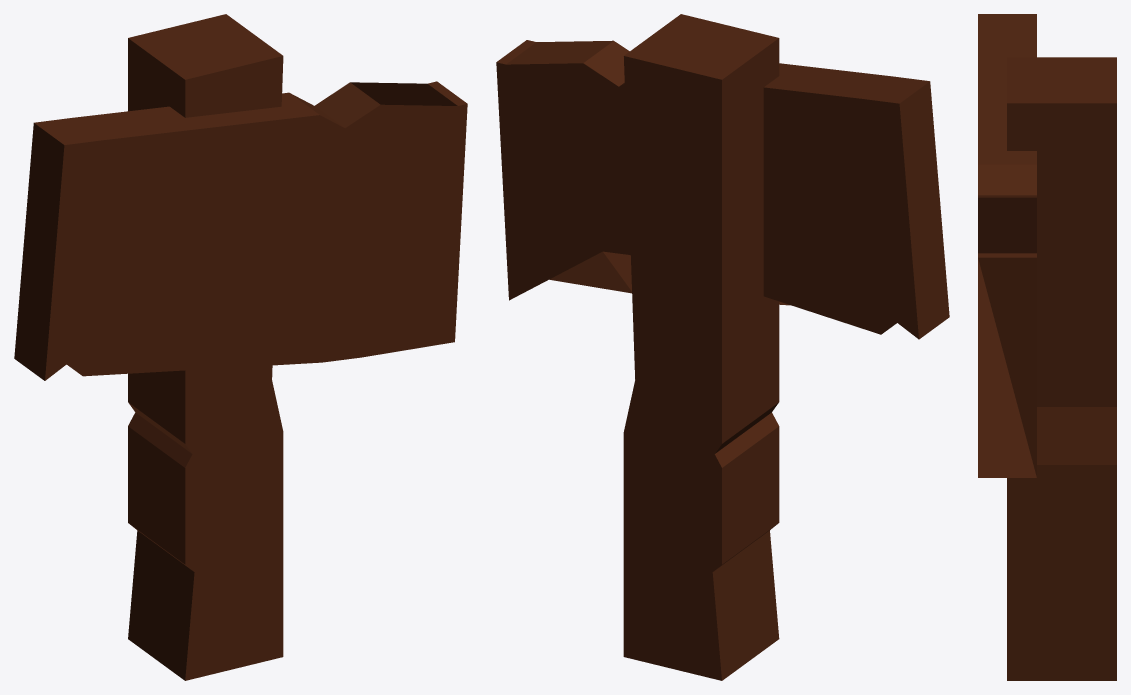
File: Sign_Edited.FBX
The picture shows the model from 3 angles, left to right: view 1: azimuth 30°, elevation 25°; view 2: azimuth 150°, elevation 25°; view 3: azimuth 270°, elevation 25°; orthographic projection. The views are drawn at different scales.
Visible parts, largest first — view 1: Sign_Right; view 2: Sign_Right; view 3: Sign_Right.
Part boxes in pixels (bbox=[...]): Sign_Right: bbox=[14, 14, 467, 680]; Sign_Right: bbox=[496, 14, 949, 680]; Sign_Right: bbox=[978, 14, 1116, 680].
Size of the model in its own units: 235 by 320 by 69.75.
